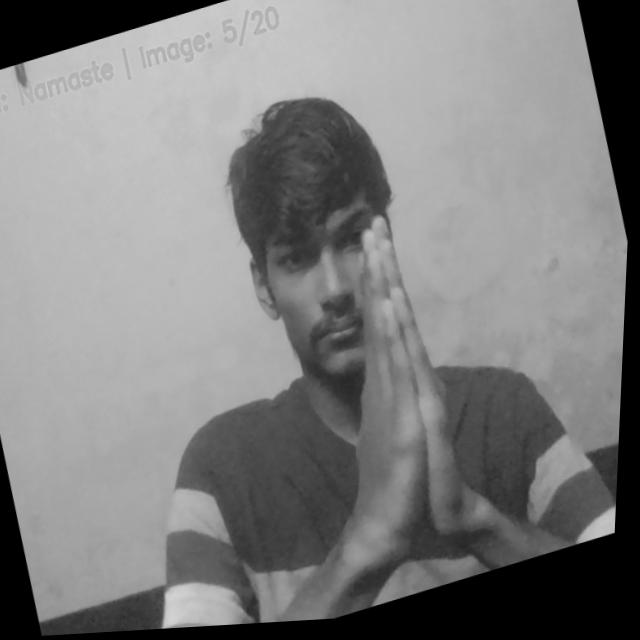Namaste: (308, 201, 504, 567)
